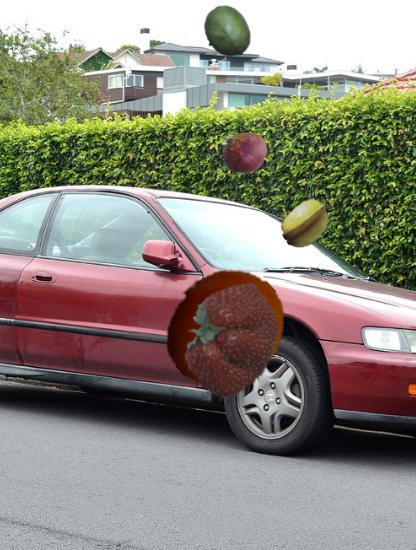Apricot: (162, 265, 288, 391)
Carambula: (280, 197, 333, 250)
Mango: (200, 5, 254, 59)
Onion: (217, 126, 268, 177)
Strawberry: (174, 280, 290, 396)
